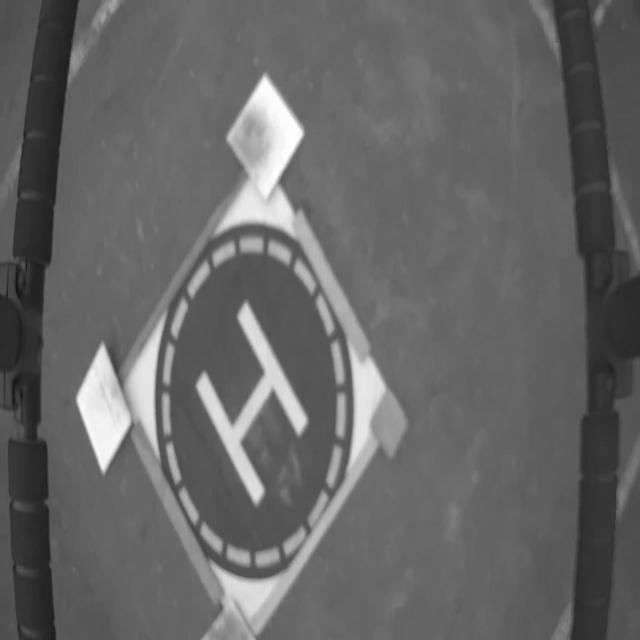Helipad: (195, 300, 309, 509)
